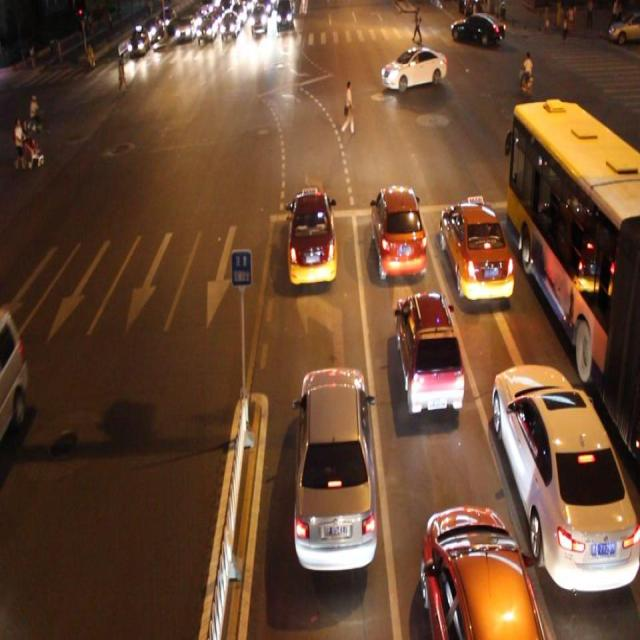car: (490, 361, 640, 596), (421, 503, 543, 640), (296, 365, 376, 571), (395, 289, 461, 416), (439, 201, 512, 302), (370, 183, 427, 278), (286, 191, 337, 288), (1, 297, 29, 443), (381, 49, 446, 93)
van: (508, 97, 640, 453)
